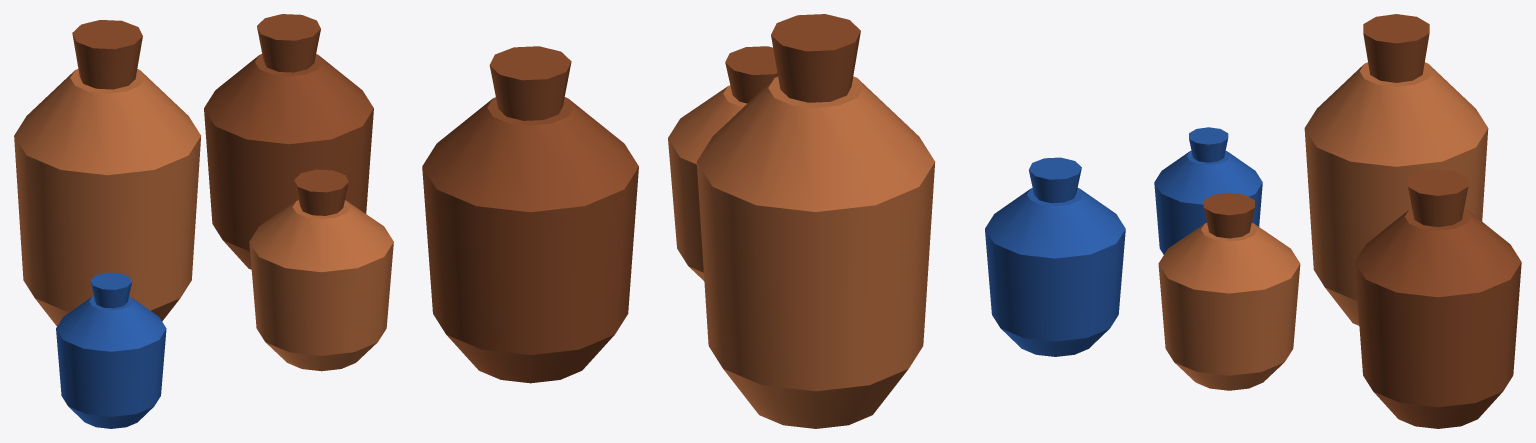
Rendered from dc_jars.glb.
3 renders of one model, left to right at view 1: azimuth 30°, elevation 25°; view 2: azimuth 150°, elevation 25°; view 3: azimuth 270°, elevation 25°, orthographic. The views are drawn at different scales.
Parts seen in each view (by area): view 1: dc_jars; view 2: dc_jars; view 3: dc_jars.
Part boxes in pixels (x1,y1,x2,y2): dc_jars: [14, 14, 393, 428]; dc_jars: [422, 14, 1125, 428]; dc_jars: [1154, 14, 1521, 428].
Bounding box in the file's own units: 1.13 × 0.75 × 0.88.
